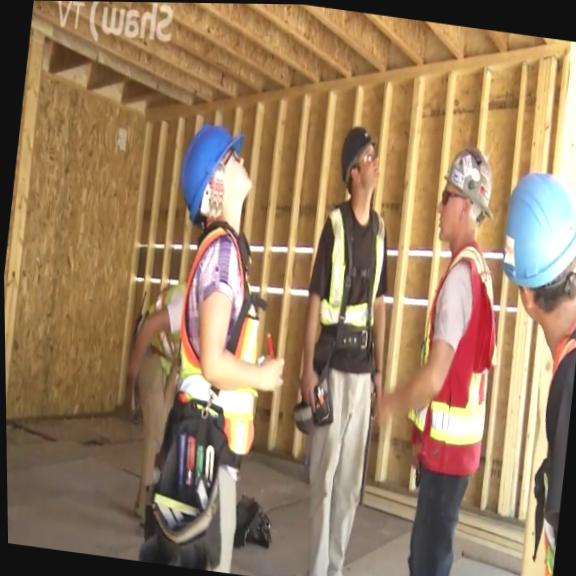safety_vest: (165, 218, 280, 456), (399, 239, 514, 473), (518, 287, 576, 576), (315, 200, 391, 334), (140, 273, 185, 377)
